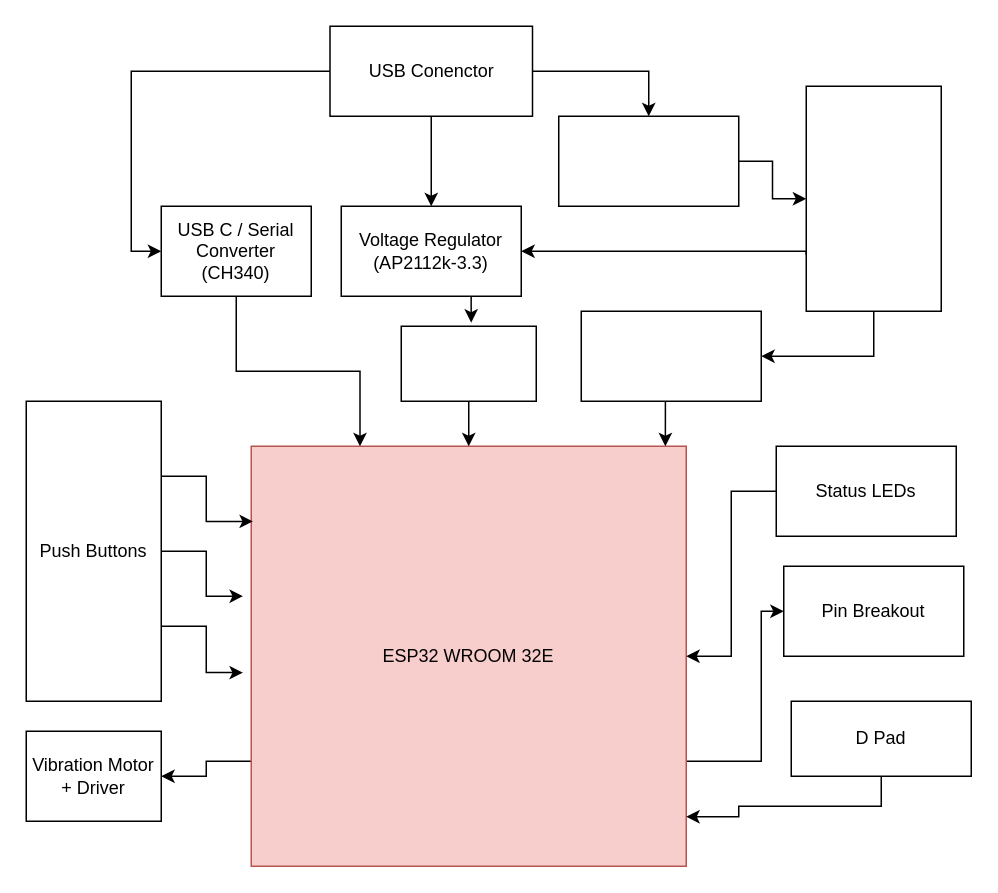
Some shapes in this 998 by 893 pixel diagram are drawn without their labels. Each missing label, with the centre of its shape:
Battery: point 873,198
Battery Gauge (MAX17048): point 670,355
Lipo Battery Charging (MCP73831): point 648,160
Power Switch: point 468,363
